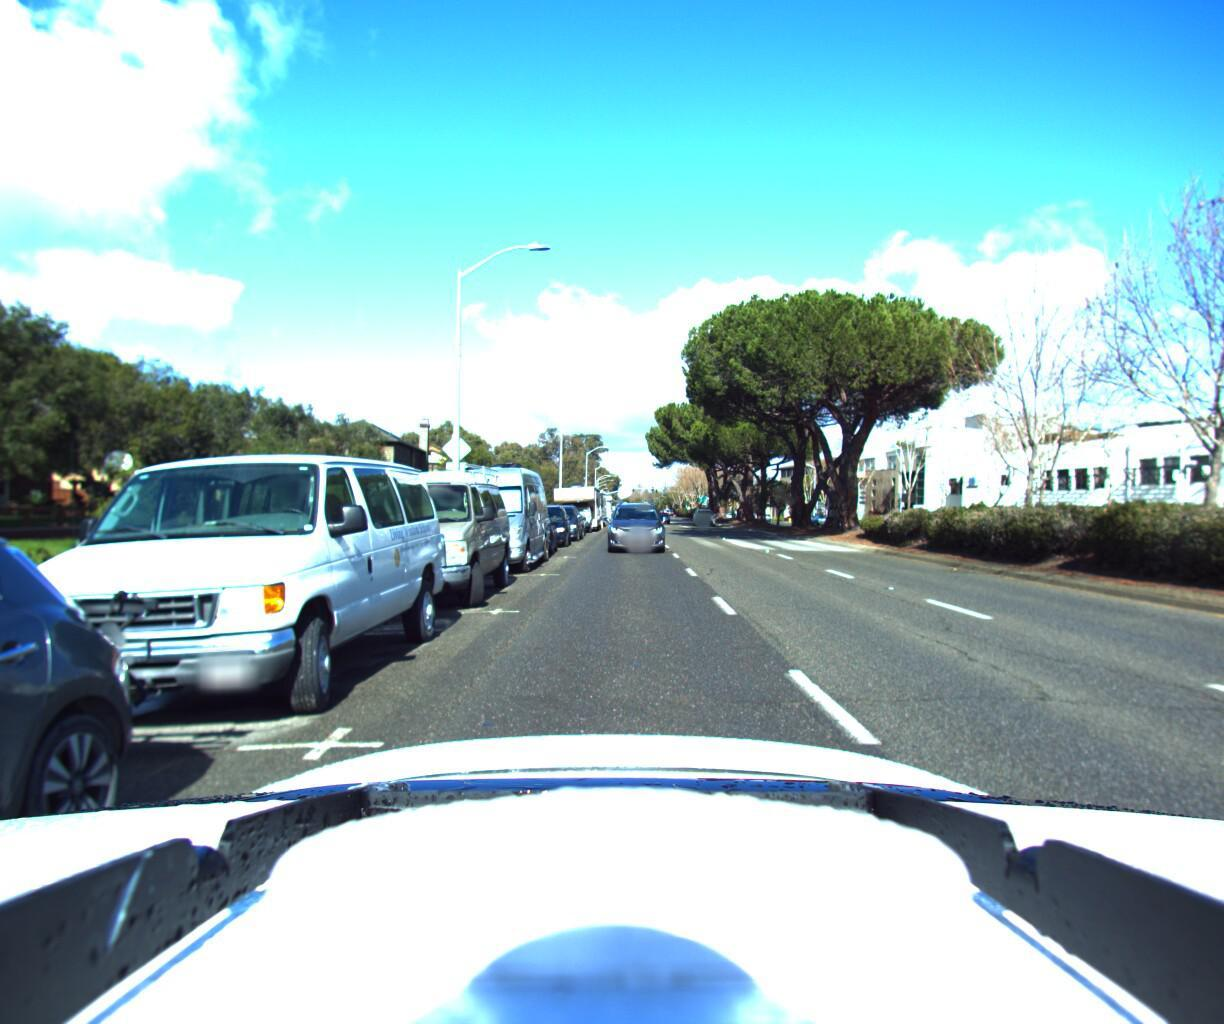car: (0, 427, 450, 758), (0, 522, 197, 1024), (316, 455, 513, 625), (430, 450, 547, 583), (608, 497, 662, 556), (492, 513, 556, 559), (516, 504, 572, 550), (532, 503, 583, 545), (691, 504, 716, 523)
other_vehicle: (547, 480, 602, 533)
